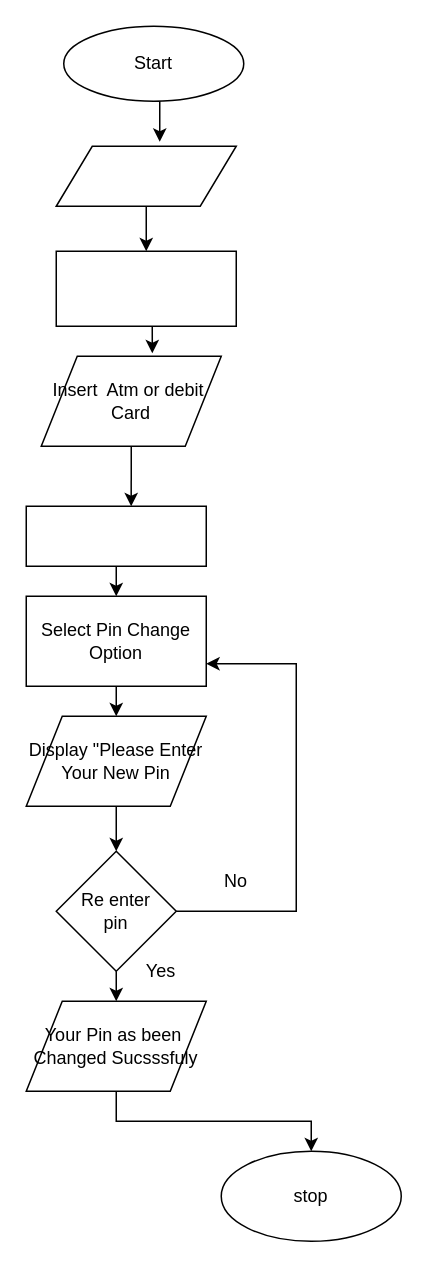
Some shapes in this 428 by 1268 pixel diagram are drawn without their labels. Each missing label, with the centre of its shape:
Enter the pin: pixel 115 535
Insert Card: pixel 145 175
Select the Language: pixel 145 288
